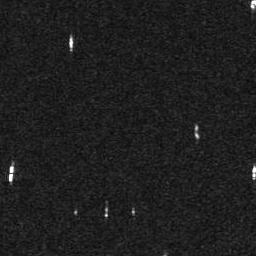ship: (6, 164, 15, 182), (67, 35, 74, 49)
